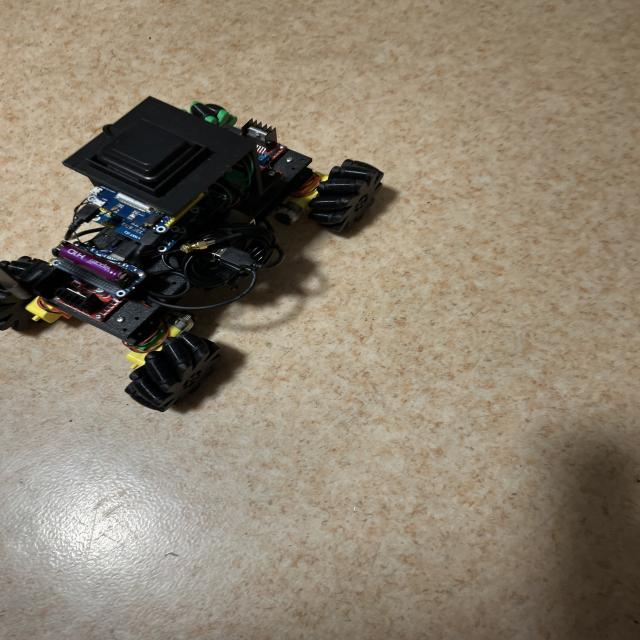robot: (0, 97, 383, 411)
